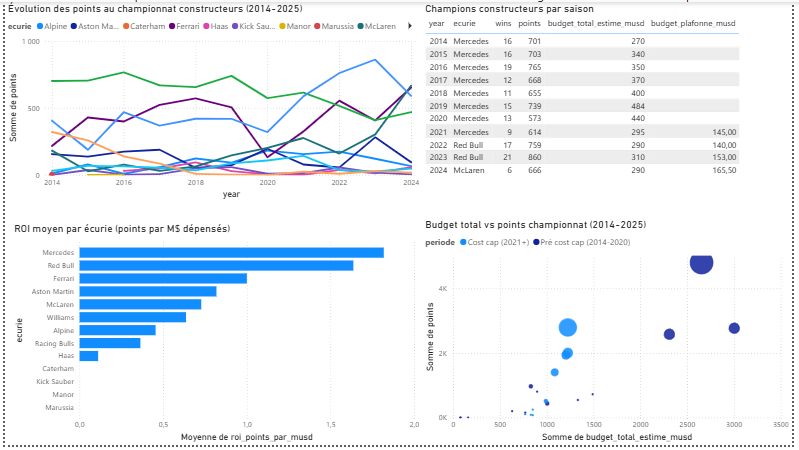

This screenshot's page, from the dashboard's own definition file:
{"tool":"powerbi","page":{"name":"Page 1","canvas":[1280,720],"ordinal":0},"visuals":[{"type":"scatterChart","title":"Budget total vs points championnat (2014-2025)","fields":{"Category":["dataset_analytique.ecurie"],"X":["Sum(dataset_analytique.budget_total_estime_musd)"],"Y":["Sum(dataset_analytique.points)"],"Series":["dataset_analytique.periode"],"Size":["Sum(dataset_analytique.wins)"]},"box":[678,352,564,326],"z":0},{"type":"clusteredBarChart","title":"ROI moyen par écurie (points par M$ dépensés)","fields":{"Category":["dataset_analytique.ecurie"],"Y":["Avg(dataset_analytique.roi_points_par_musd)"]},"box":[10,360,668,306],"z":1000},{"type":"lineChart","title":"Évolution des points au championnat constructeurs (2014-2025)","fields":{"Category":["dataset_analytique.year"],"Y":["Sum(dataset_analytique.points)"],"Series":["dataset_analytique.ecurie"]},"box":[0,0,640,326],"z":2000},{"type":"tableEx","title":"Champions constructeurs par saison","fields":{"Values":["dataset_analytique.year","dataset_analytique.ecurie","dataset_analytique.wins","dataset_analytique.points","dataset_analytique.budget_total_estime_musd","dataset_analytique.budget_plafonne_musd"]},"box":[678,0,564,326],"z":3000}]}

Visuals, with their boxes in screenshot pixels (x1, y1, x2, y2), scaled from the page's 1280x720 canvas onto the 799x450 screenshot:
"Budget total vs points championnat (2014-2025)" scatterChart: 423/220/775/424
"ROI moyen par écurie (points par M$ dépensés)" clusteredBarChart: 6/225/423/416
"Évolution des points au championnat constructeurs (2014-2025)" lineChart: 0/0/400/204
"Champions constructeurs par saison" tableEx: 423/0/775/204
